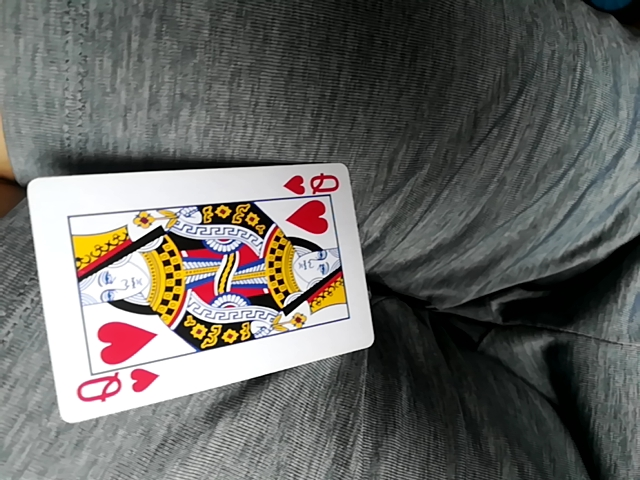hx q: (31, 160, 374, 419)
